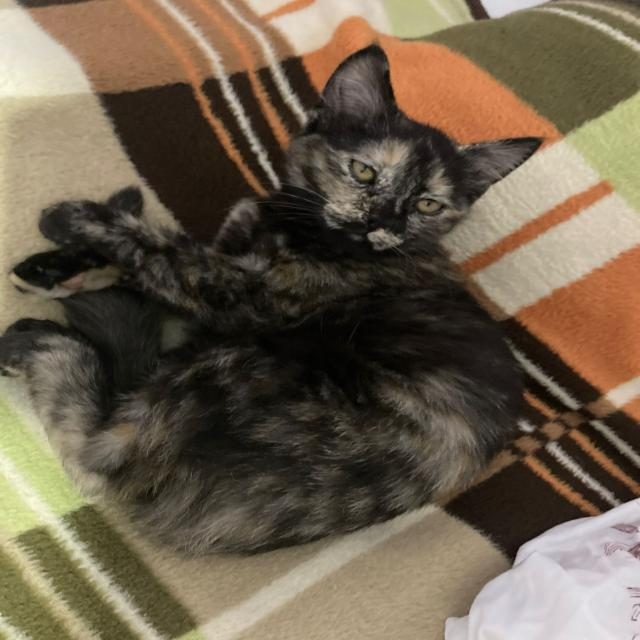authorized: (1, 42, 544, 559)
